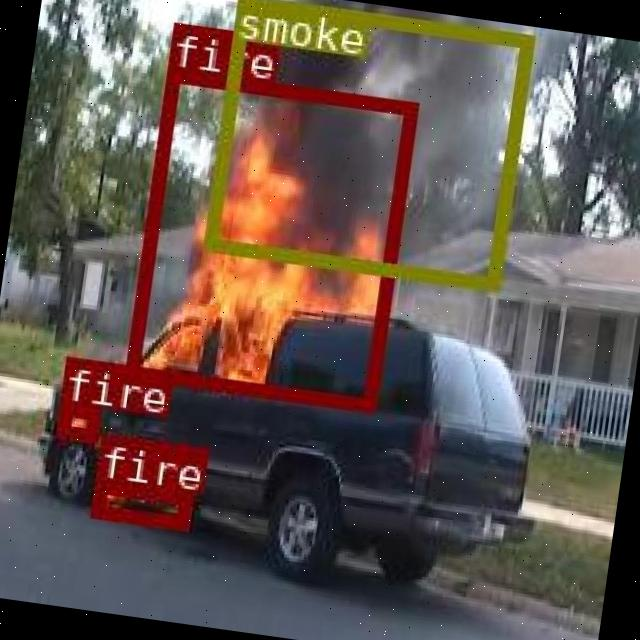fire: (124, 66, 416, 410), (90, 478, 192, 526), (53, 400, 98, 440)
smoke: (201, 0, 531, 288)
